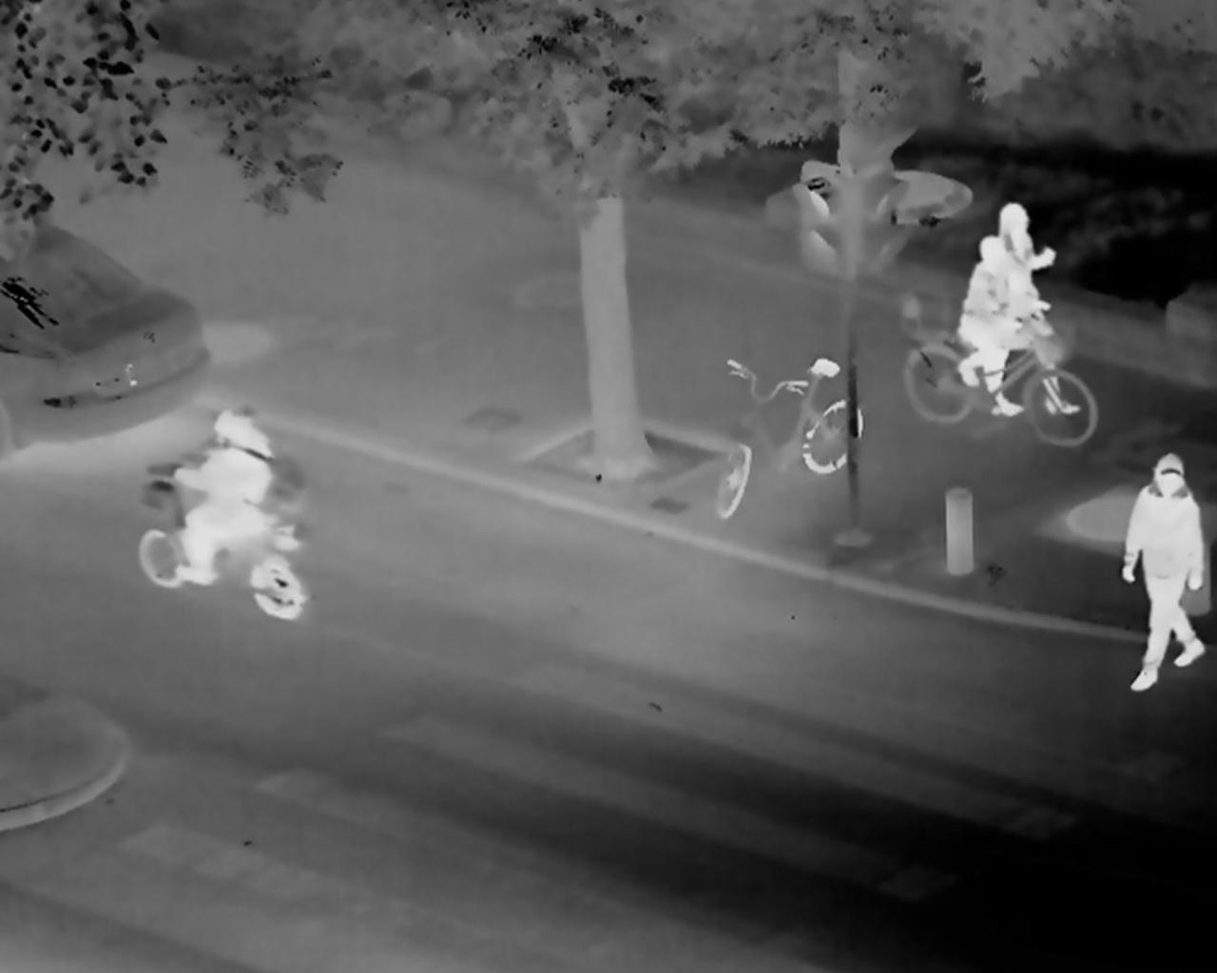person: (1121, 451, 1205, 695), (166, 409, 274, 588), (994, 201, 1074, 416), (962, 236, 1018, 417)
